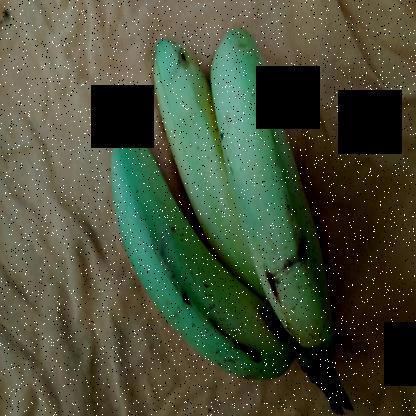freshripe: (151, 37, 253, 284)
ripe: (101, 129, 292, 384), (210, 29, 332, 351)
